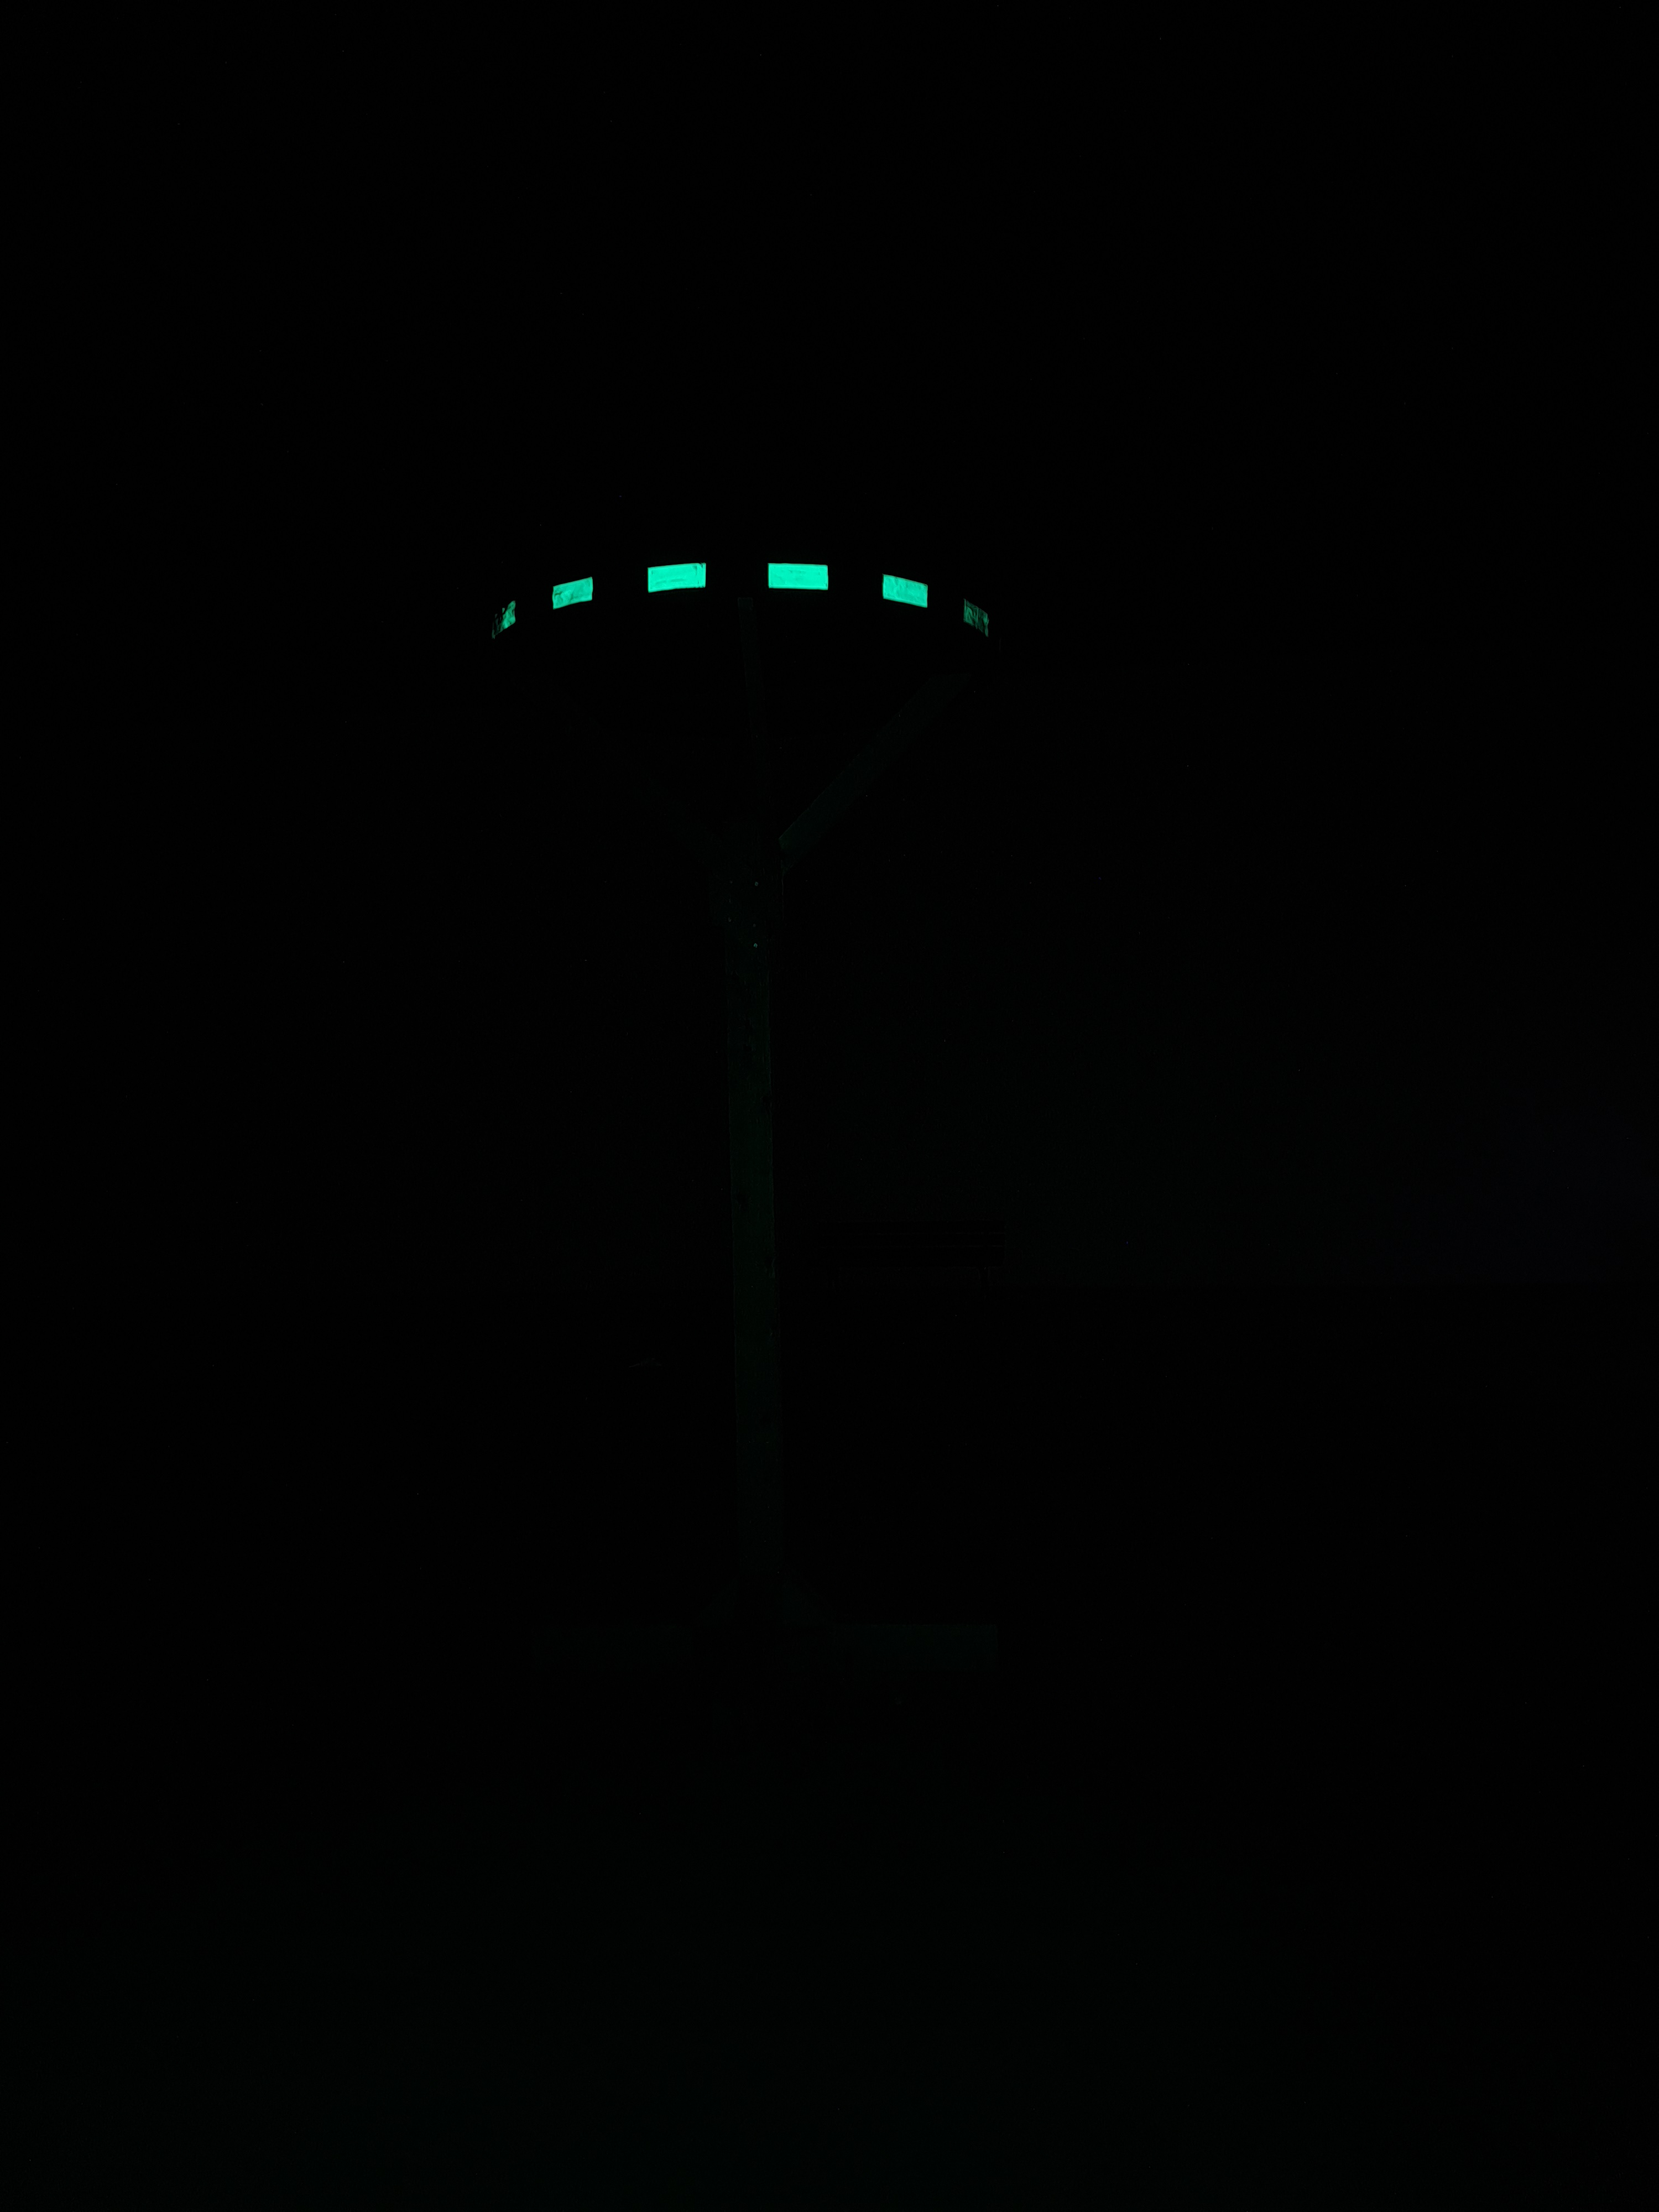hoop: (474, 547, 1000, 658)
